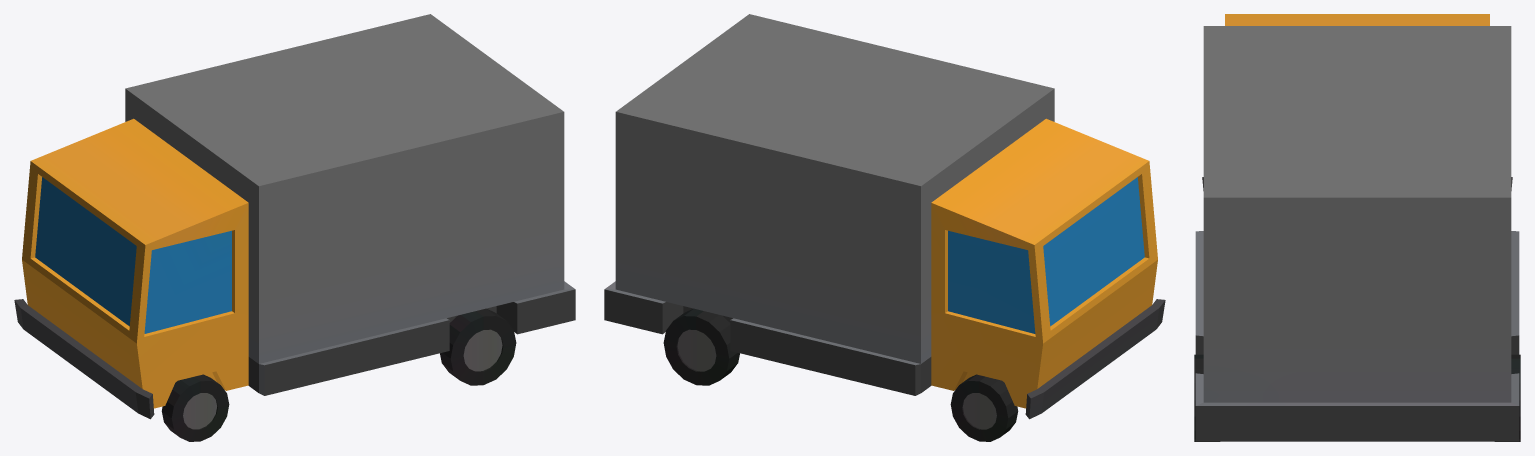
File: Truck.fbx
3 views of the same model, side by side, from view 1: azimuth 30°, elevation 25°; view 2: azimuth 150°, elevation 25°; view 3: azimuth 270°, elevation 25° (orthographic). The views are drawn at different scales.
Visible parts, largest first — view 1: TruckCarriegeColor, TruckBodyColor, TruckBody, TruckCarriege, TruckTires; view 2: TruckCarriegeColor, TruckBodyColor, TruckBody, TruckCarriege, TruckTires; view 3: TruckCarriegeColor, TruckCarriege, TruckBodyColor, TruckTires.
Part boxes in pixels (x1,y1,x2,y2): TruckCarriegeColor: (125, 14, 564, 363); TruckBodyColor: (22, 118, 248, 408); TruckBody: (14, 177, 231, 419); TruckCarriege: (248, 281, 575, 395); TruckTires: (161, 308, 516, 441); TruckCarriegeColor: (615, 14, 1054, 363); TruckBodyColor: (931, 118, 1157, 408); TruckBody: (948, 177, 1165, 419); TruckCarriege: (604, 281, 931, 395); TruckTires: (663, 308, 1018, 441); TruckCarriegeColor: (1203, 26, 1511, 402); TruckCarriege: (1195, 231, 1519, 441); TruckBodyColor: (1225, 14, 1489, 25); TruckTires: (1194, 354, 1520, 441).
Bounding box in the file's own units: 378 × 211 × 217.
